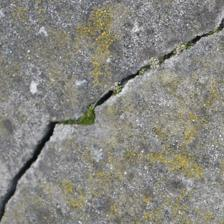Crack: (36, 83, 148, 166), (0, 85, 103, 138)
